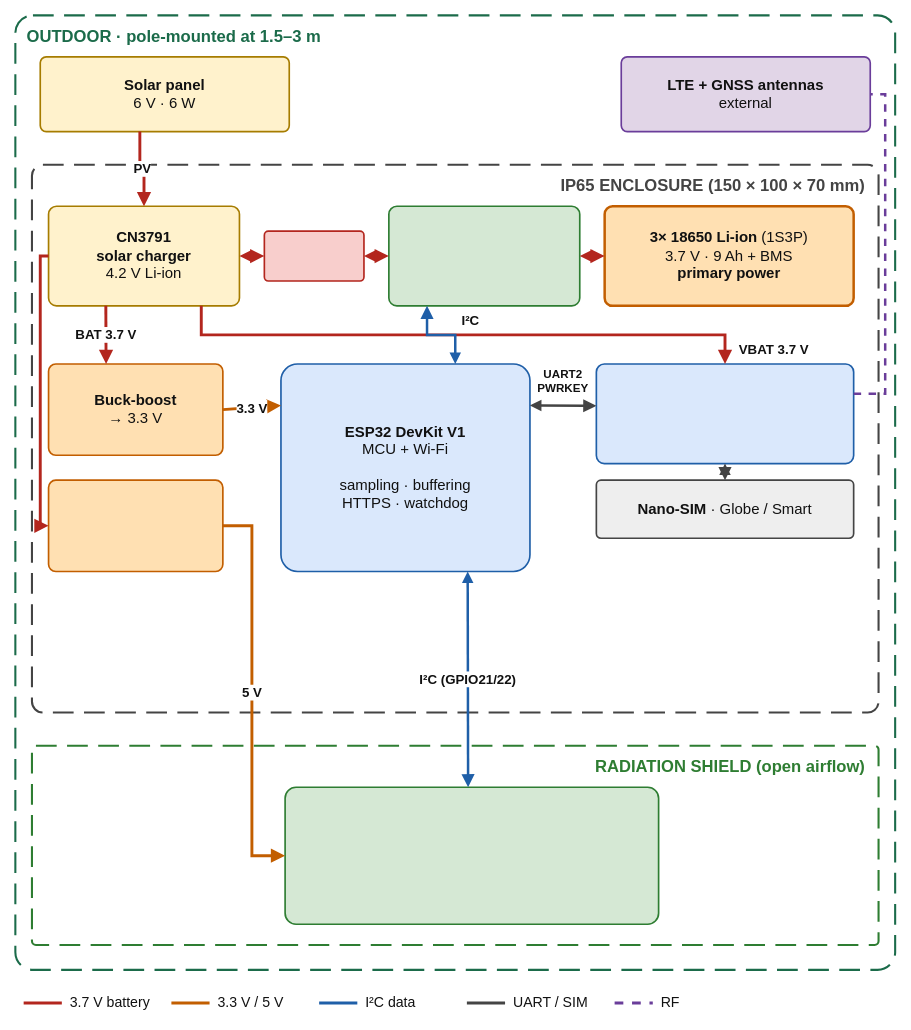
The diagram is 911 pixels wide and 1030 high, and some of its shapes have lost their labels. Each missing label, with the centre of its shape:
A7670SA module 4G LTE (fallback) + GNSS (GPS): point (724, 413)
Boost → 5 V (MT3608): point (135, 525)
F1 5 A: point (313, 255)
INA219 battery V & I (I²C 0x40): point (484, 255)
Sensirion SEN55 PM1–PM10 · VOC · NOx temperature · humidity 5 V · I²C 0x69: point (471, 855)
